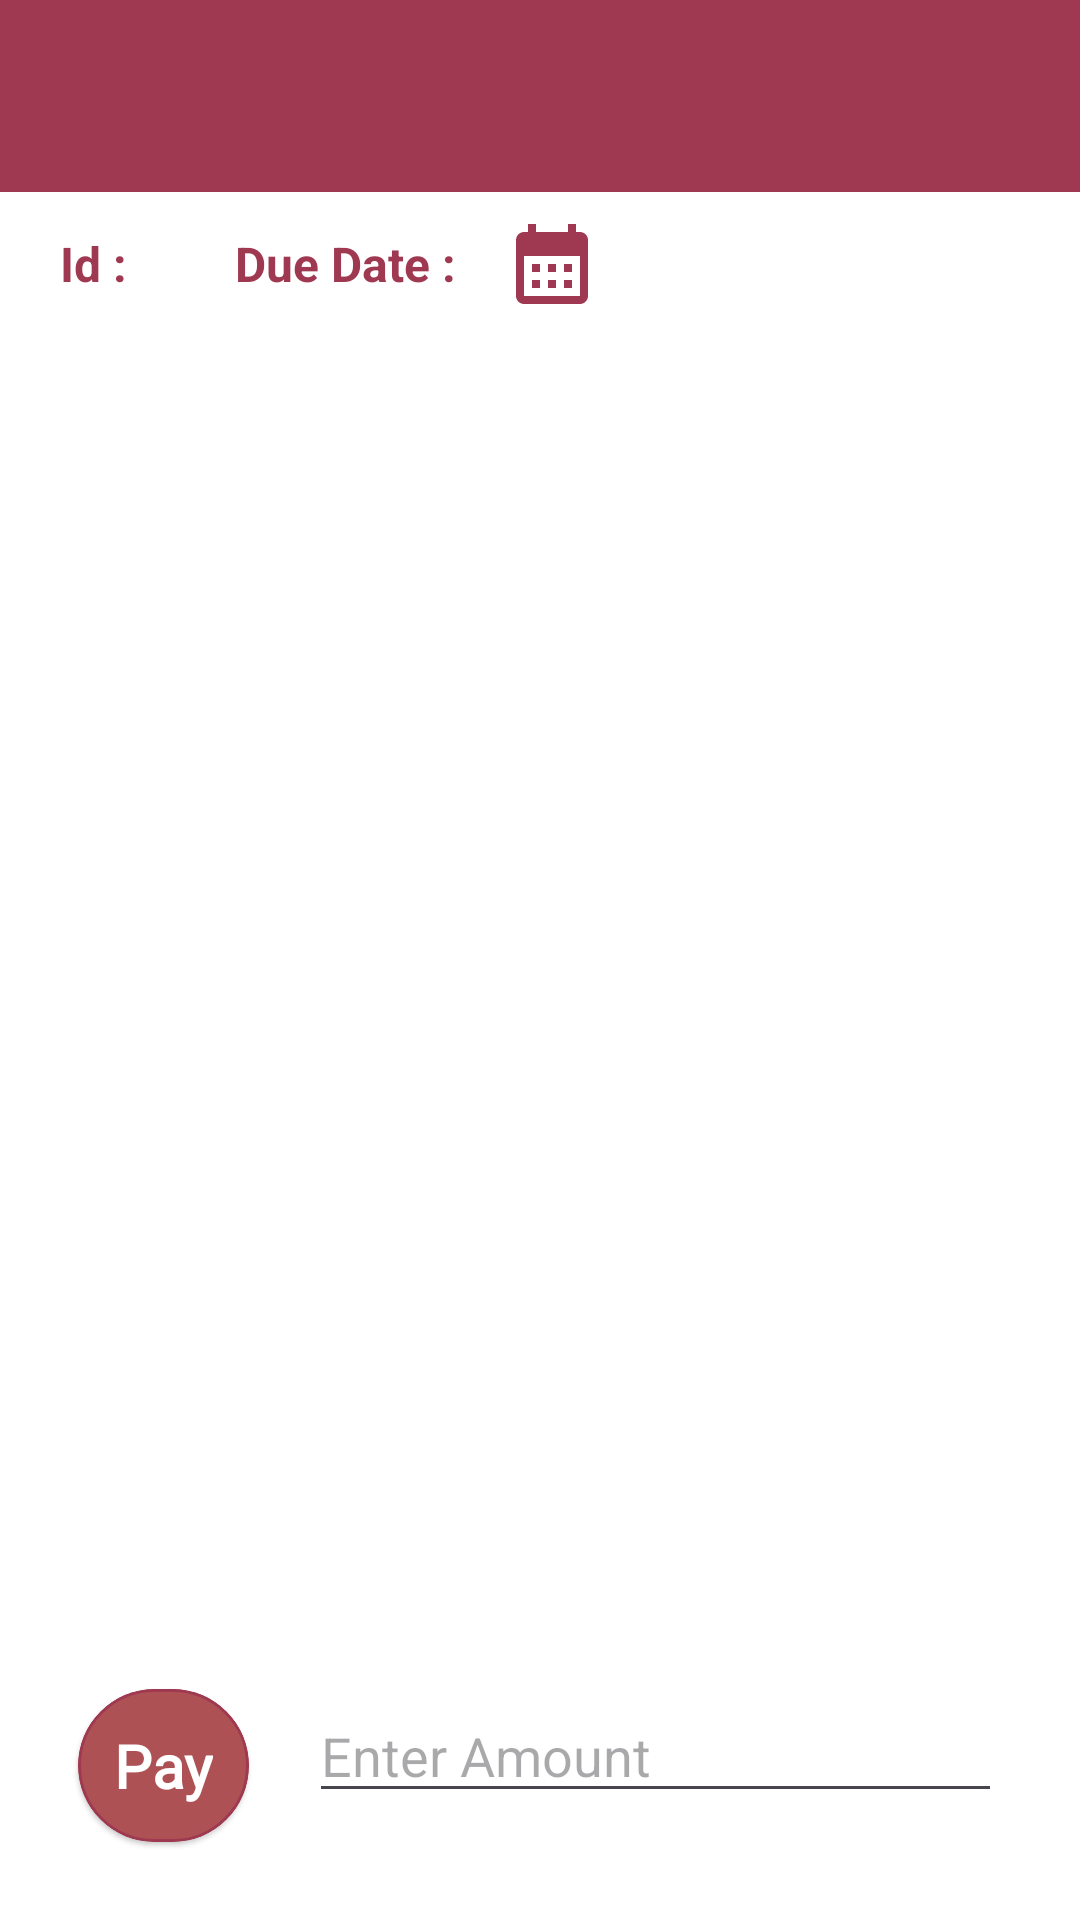

Screen size 1080px x 1920px. Icon name, then its box in pixels as [left=x1, top=y1, right=x2, bottom=y2]:
calendar month: [left=516, top=224, right=588, bottom=304]
